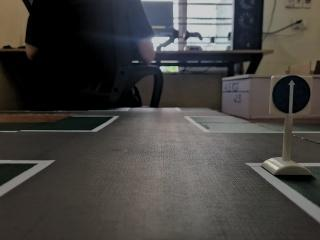straight: (264, 68, 317, 120)
